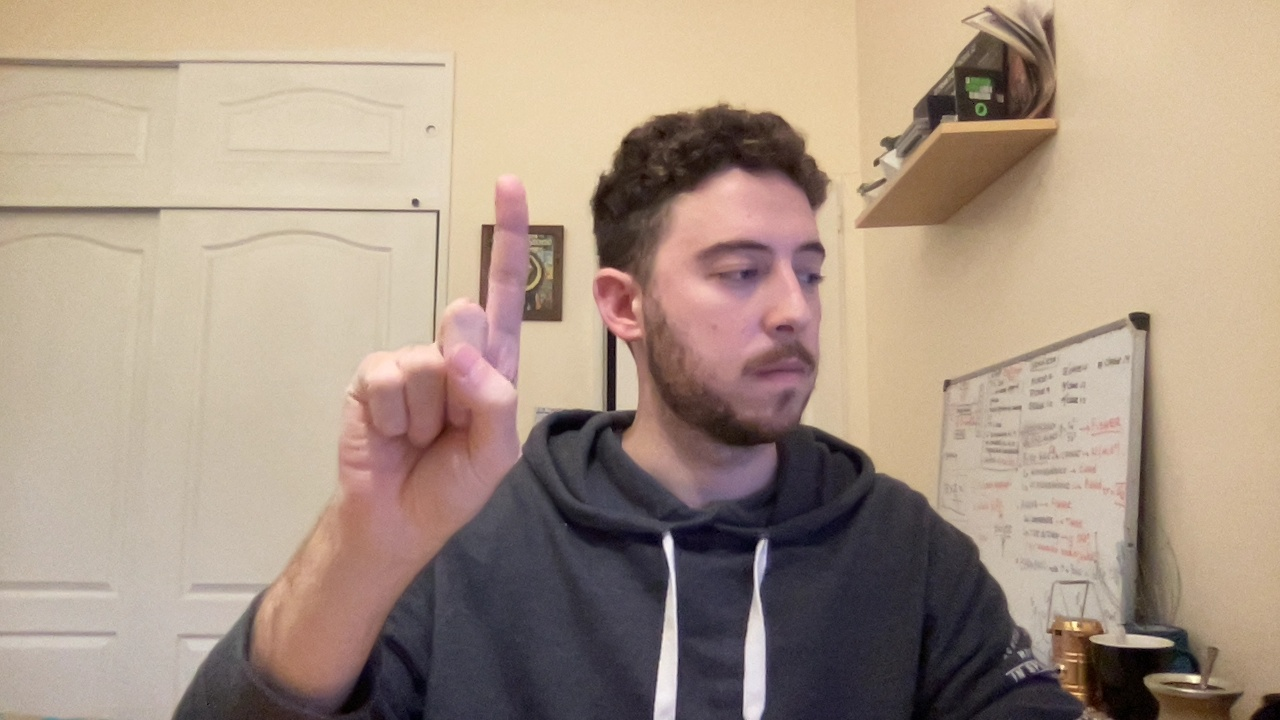indice: (291, 177, 565, 530)
